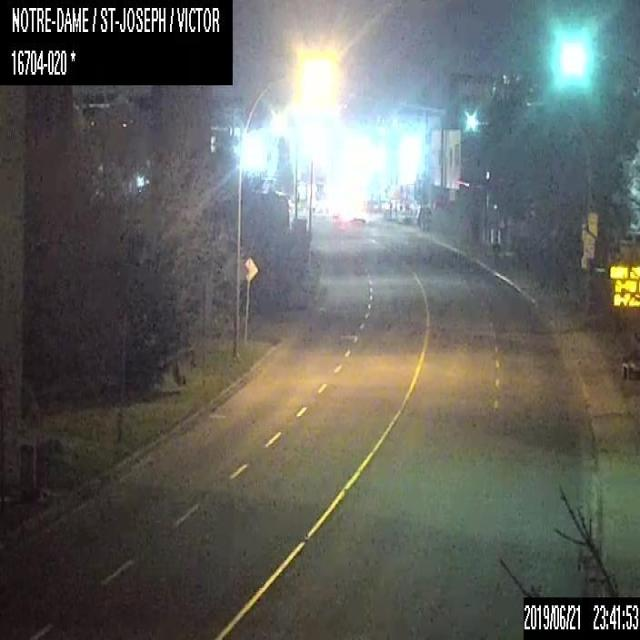construction: (610, 227, 639, 384)
